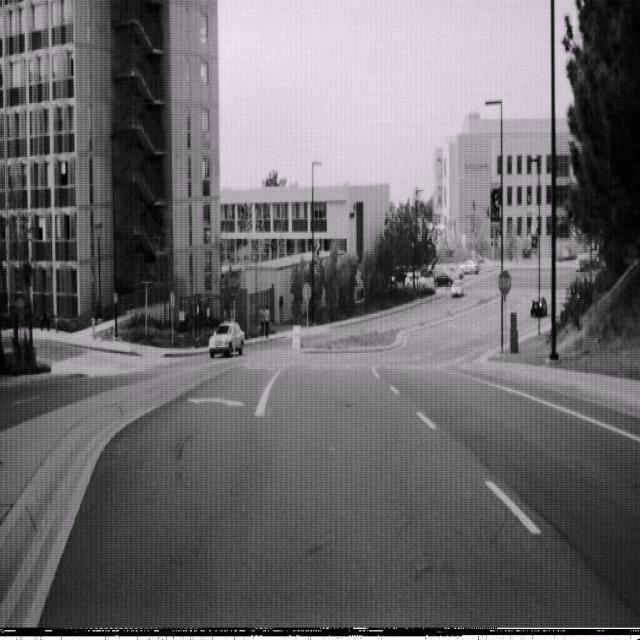stop_sign: (498, 268, 512, 298), (226, 268, 241, 296)
